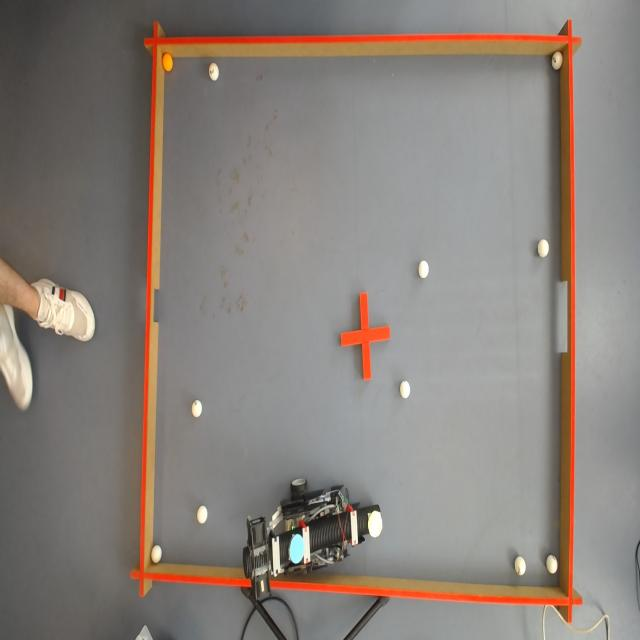orange: (162, 53, 175, 72)
robot: (242, 475, 384, 608)
robot-front: (367, 513, 384, 538)
robot-rear: (288, 532, 306, 564)
white: (515, 555, 527, 576), (548, 553, 560, 573), (152, 545, 164, 565), (551, 52, 563, 71), (538, 239, 550, 257), (400, 381, 412, 398), (197, 506, 208, 524), (190, 403, 204, 417), (208, 64, 220, 80), (419, 261, 429, 278)
